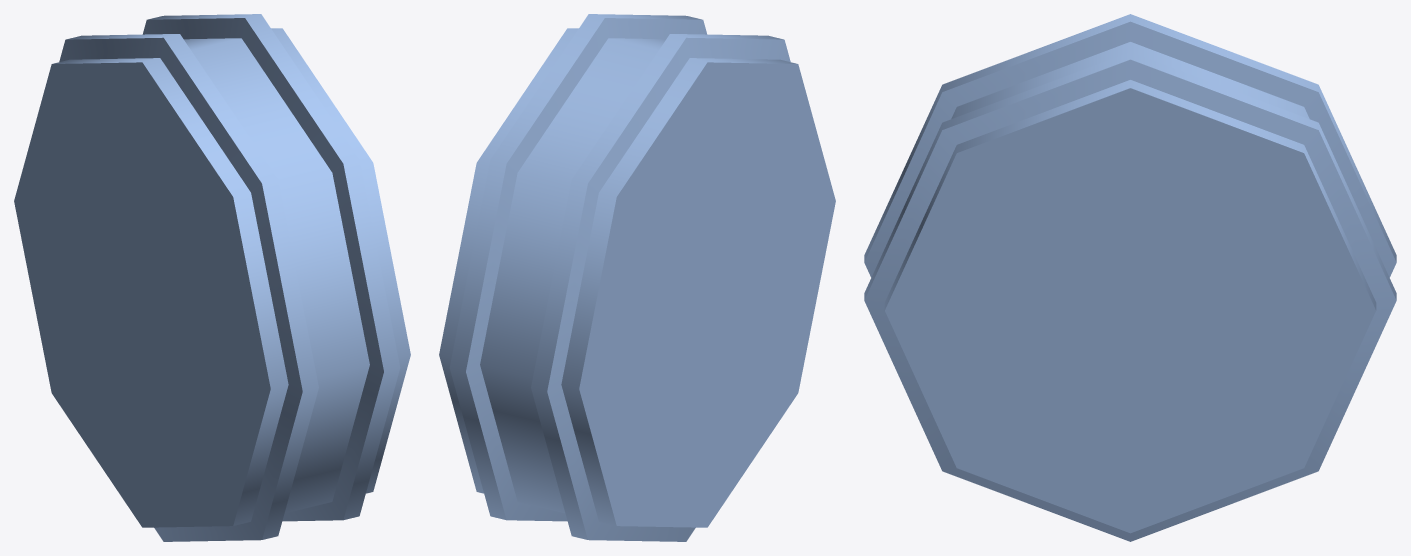
File: PipeSmall_Connector_04.fbx
3 renders of one model, left to right at view 1: azimuth 30°, elevation 25°; view 2: azimuth 150°, elevation 25°; view 3: azimuth 270°, elevation 25°, orthographic. The views are drawn at different scales.
Parts seen in each view (by area): view 1: PipeSmall_Connector_04.001; view 2: PipeSmall_Connector_04.001; view 3: PipeSmall_Connector_04.001.
Boxes of the visible parts, x1,y1,x2,y2 form: PipeSmall_Connector_04.001: (14,14,410,541); PipeSmall_Connector_04.001: (439,14,835,541); PipeSmall_Connector_04.001: (864,14,1396,541).
Size of the model in its own units: 0.0339 by 0.1167 by 0.1167.
